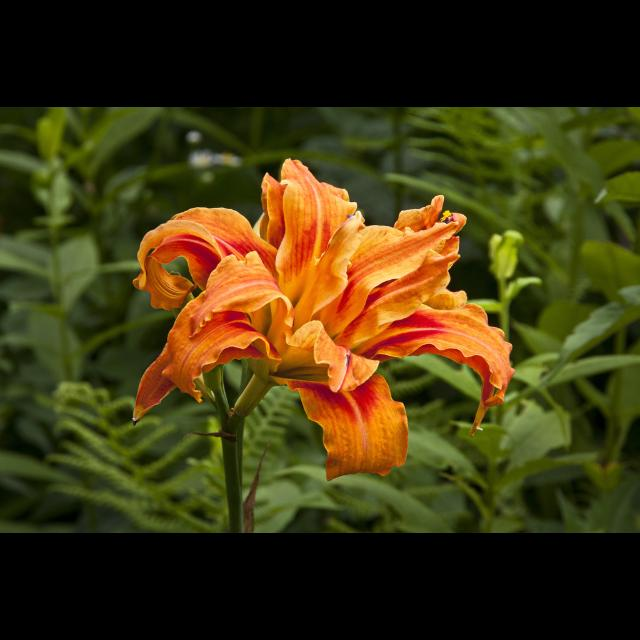Flower: (134, 158, 520, 480)
